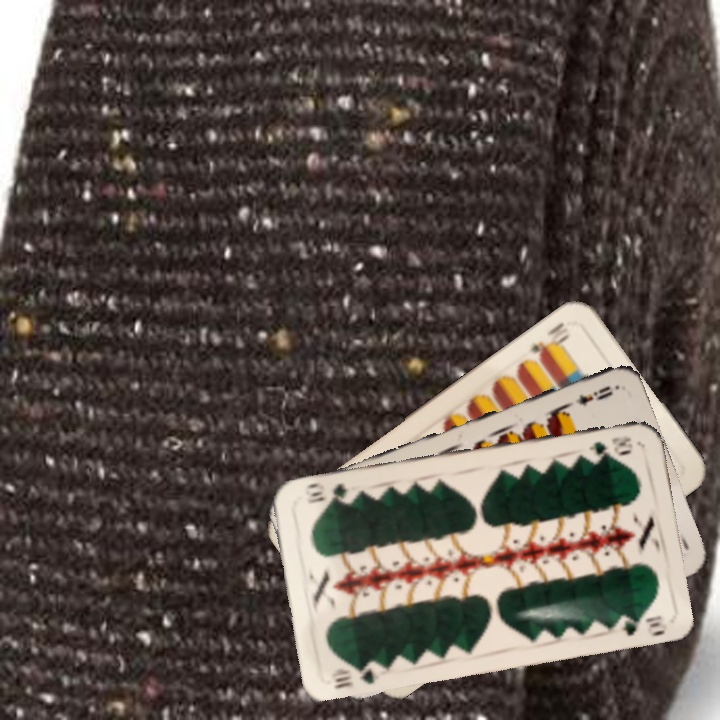E10: (524, 318, 573, 362)
E9: (571, 382, 616, 409)
G10: (327, 658, 382, 691), (584, 432, 636, 458)
